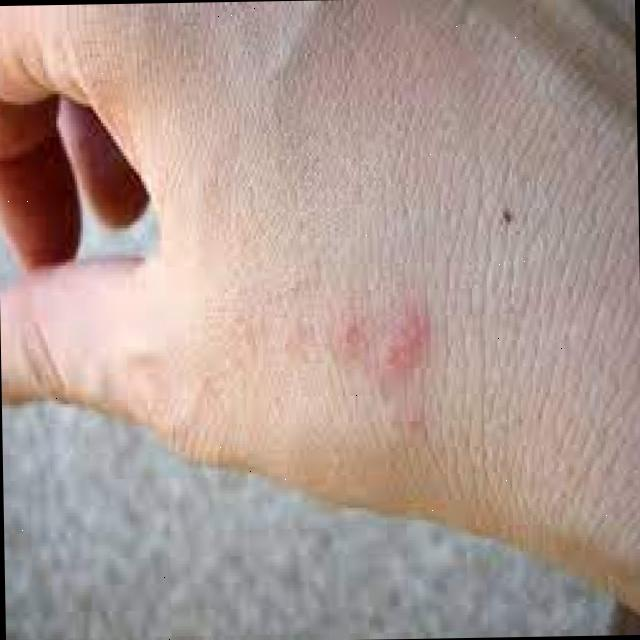kan emici bocekler: (255, 234, 473, 468)
